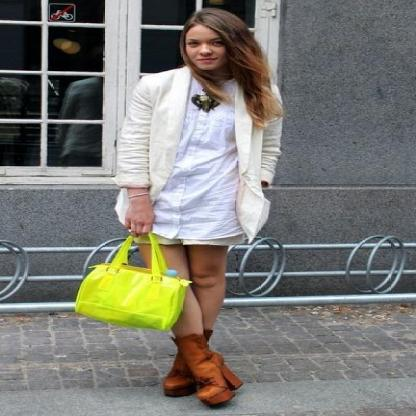bag: (73, 235, 191, 330)
jacket: (112, 66, 281, 235)
shirt: (114, 82, 250, 244)
shoe: (150, 328, 242, 409)
shorts: (137, 232, 249, 257)
